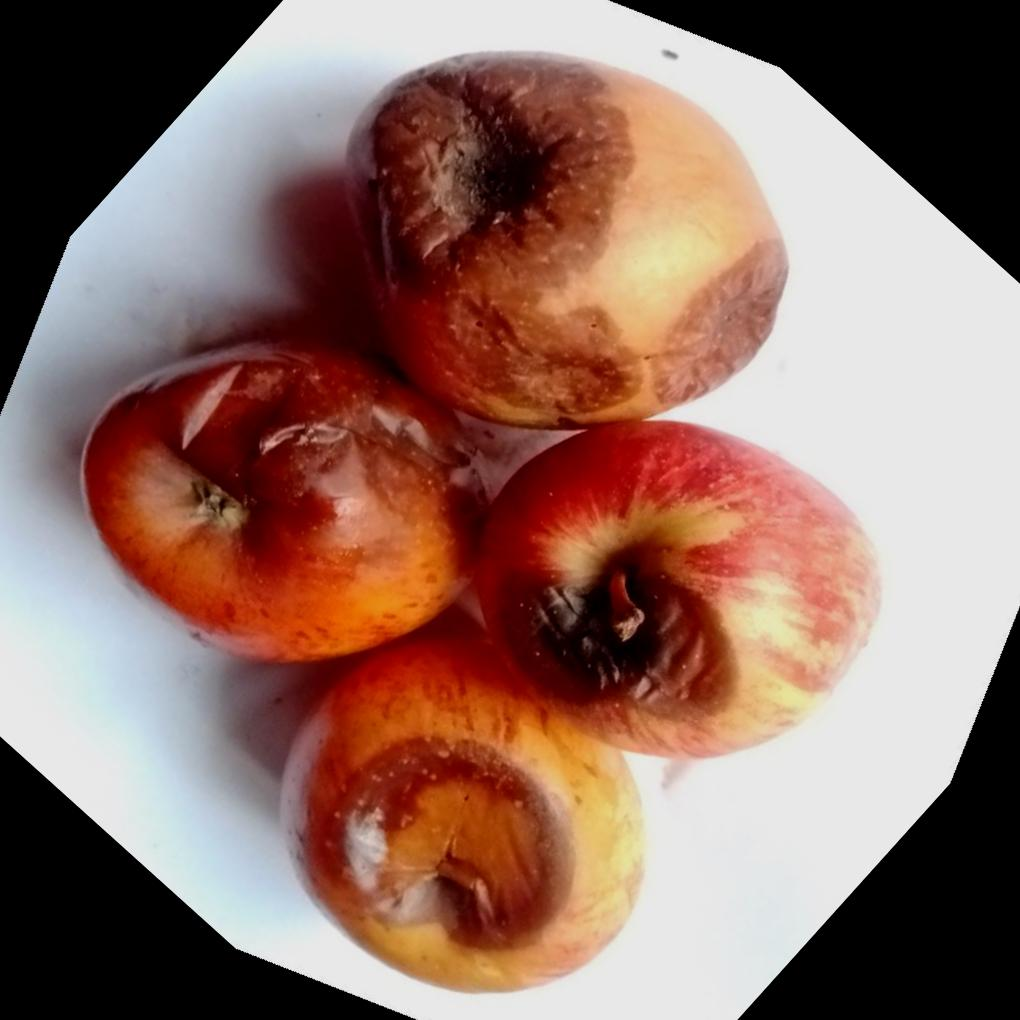FreshOrange: (82, 49, 895, 1000)
